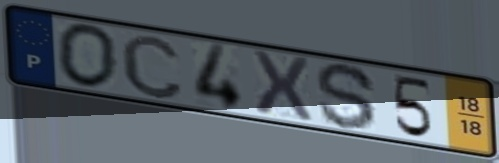4: (191, 41, 246, 114)
5: (390, 72, 435, 139)
C: (118, 32, 186, 102)
O: (54, 21, 121, 91)
S: (313, 61, 379, 133)
X: (248, 46, 316, 123)
